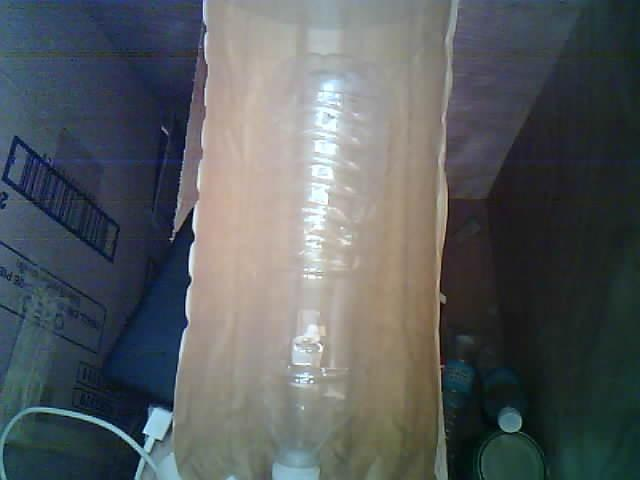large_bottle: (239, 44, 396, 480)
